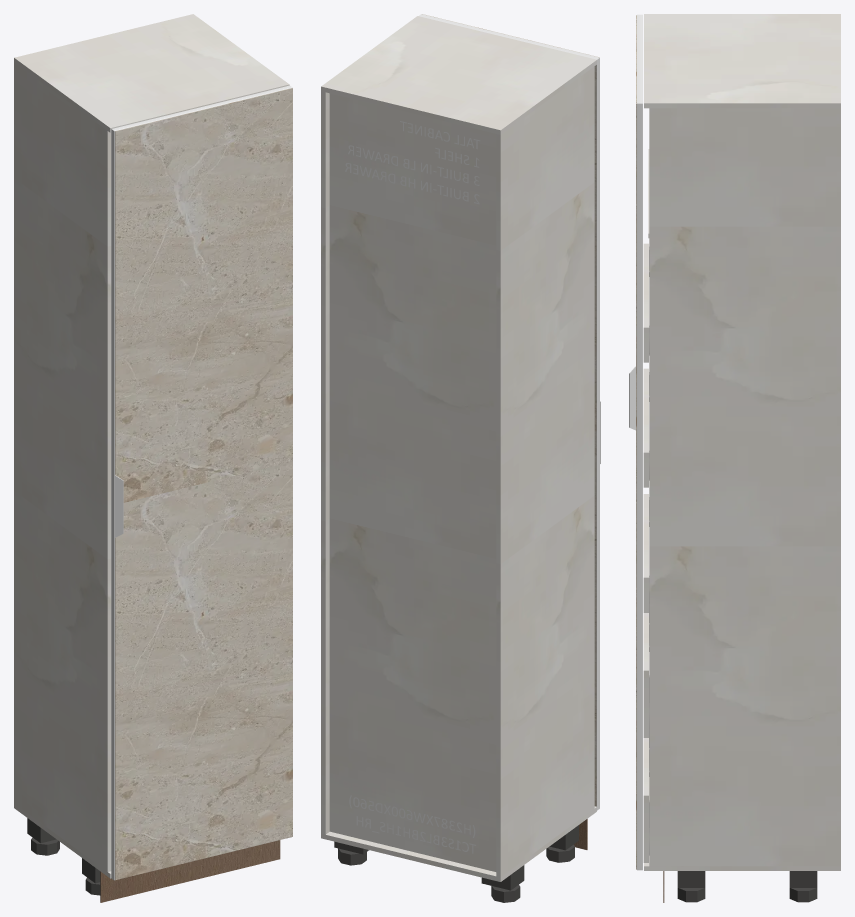
The picture shows the model from 3 angles, left to right: view 1: azimuth 30°, elevation 25°; view 2: azimuth 150°, elevation 25°; view 3: azimuth 270°, elevation 25°; orthographic projection. The views are drawn at different scales.
Size of what is drawn, in the model's own units: 0.6 by 2.5 by 0.5999.
Materials: 7 (3 with a texture image).
